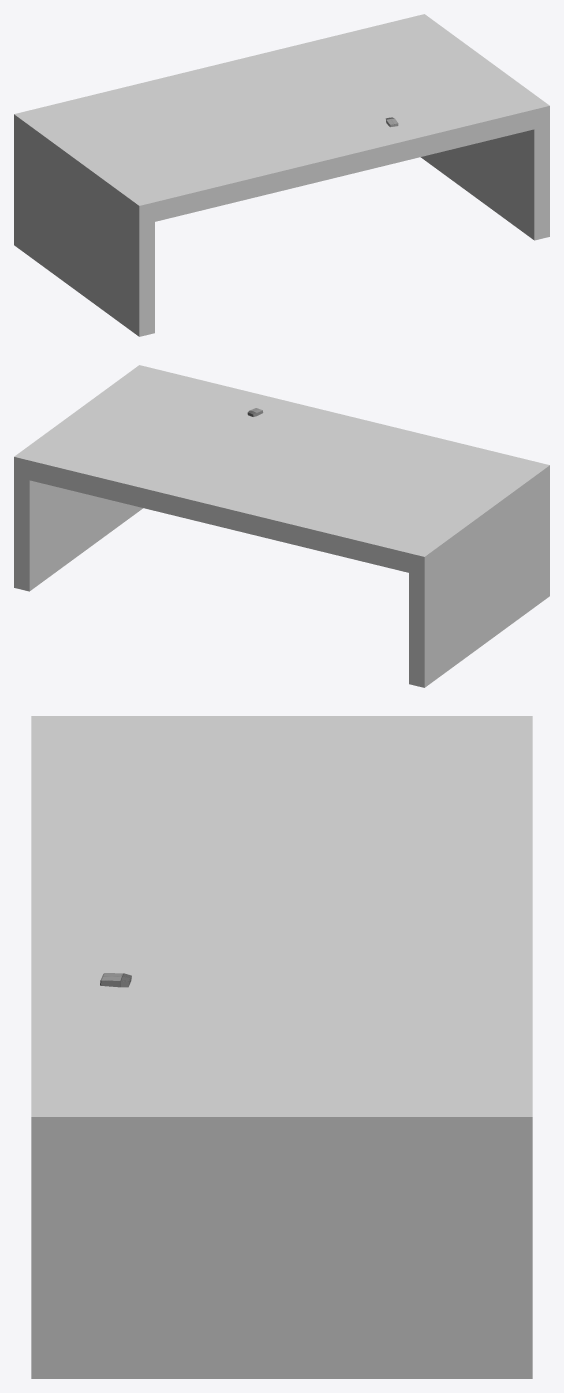
The model's file is Desk.gltf.
The picture shows the model from 3 angles, top to bottom: view 1: azimuth 30°, elevation 25°; view 2: azimuth 150°, elevation 25°; view 3: azimuth 270°, elevation 25°; orthographic projection. The views are drawn at different scales.
Parts seen in each view (by area): view 1: Desk; view 2: Desk; view 3: Desk.
Boxes of the visible parts, x1,y1,x2,y2 form: Desk: (14, 14, 549, 336); Desk: (14, 365, 549, 687); Desk: (31, 716, 532, 1378).
Size of the model in its own units: 18.65 by 5.85 by 9.87.
Materials: 2 (1 with a texture image).
